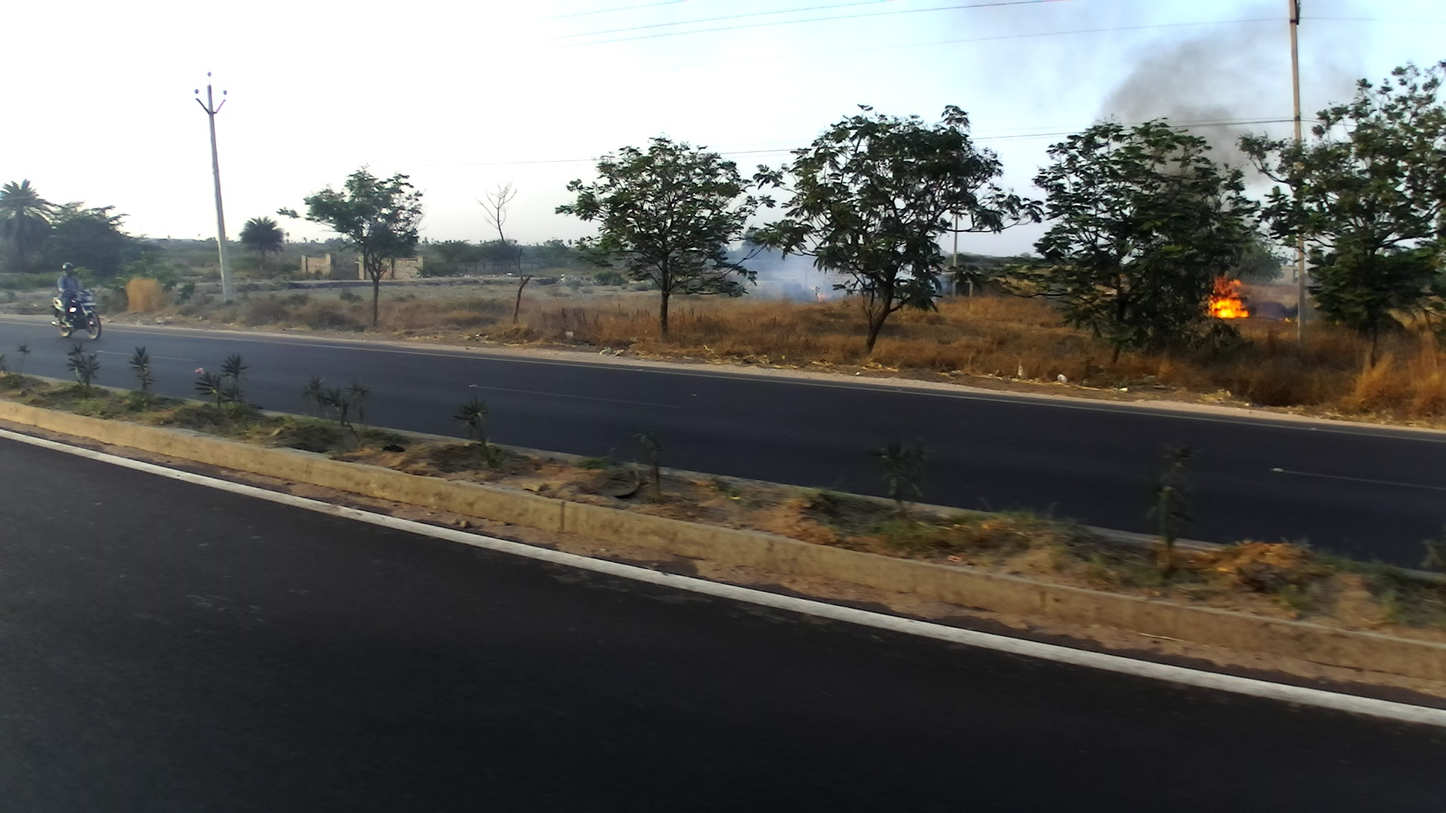motorcycle: (51, 283, 103, 340)
rider: (56, 260, 87, 333)
